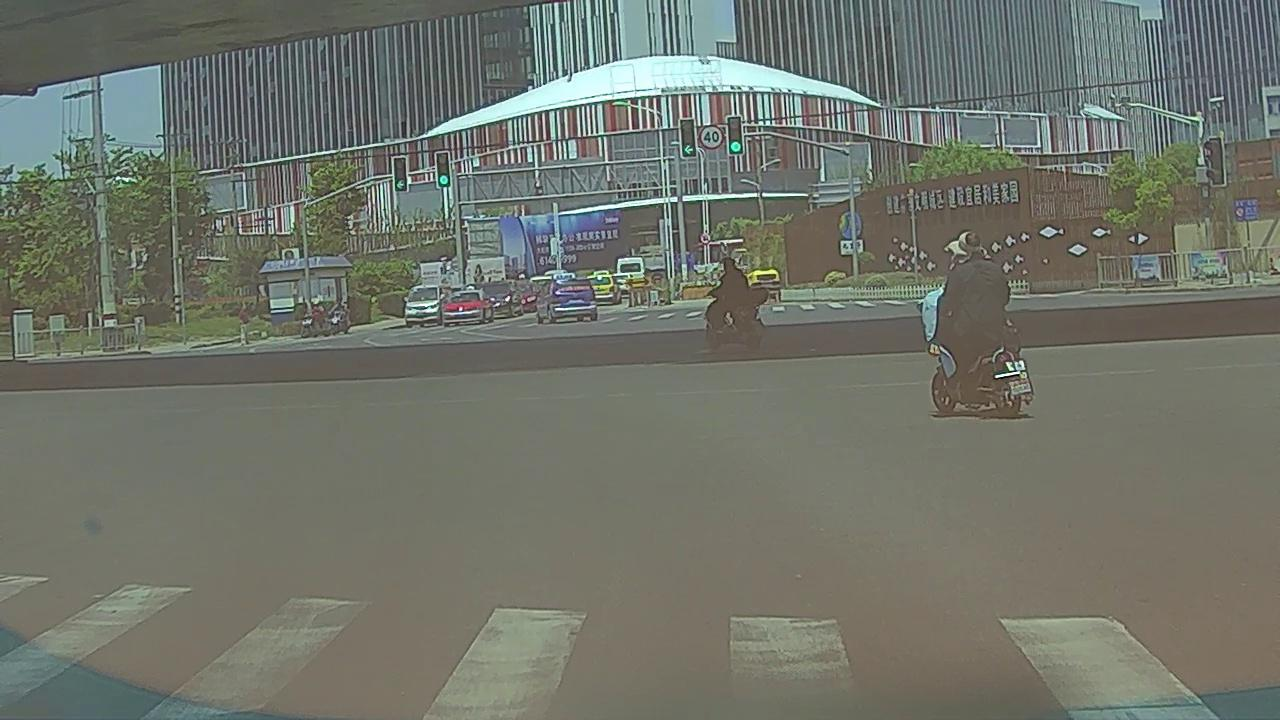traffic_light: (680, 119, 696, 157), (728, 116, 743, 155), (436, 153, 451, 187), (394, 158, 407, 191)
